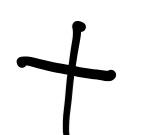plus: (18, 22, 116, 135)
